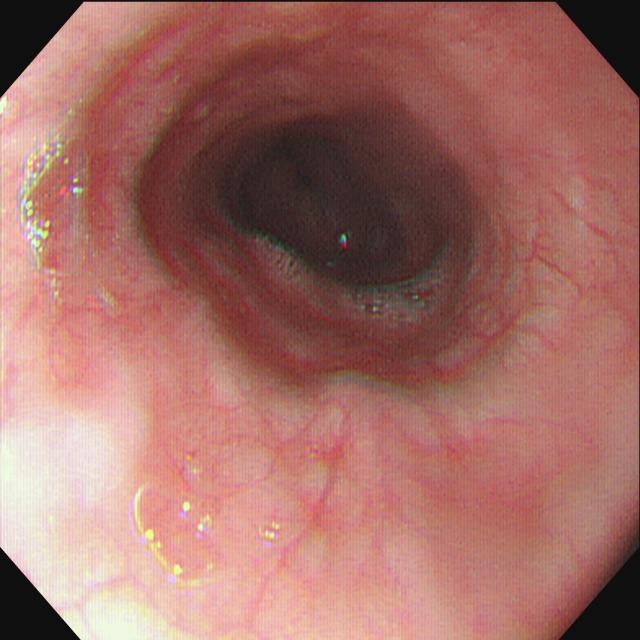E: (228, 125, 406, 286)
T: (16, 106, 96, 285), (131, 477, 230, 593), (342, 272, 456, 324)
